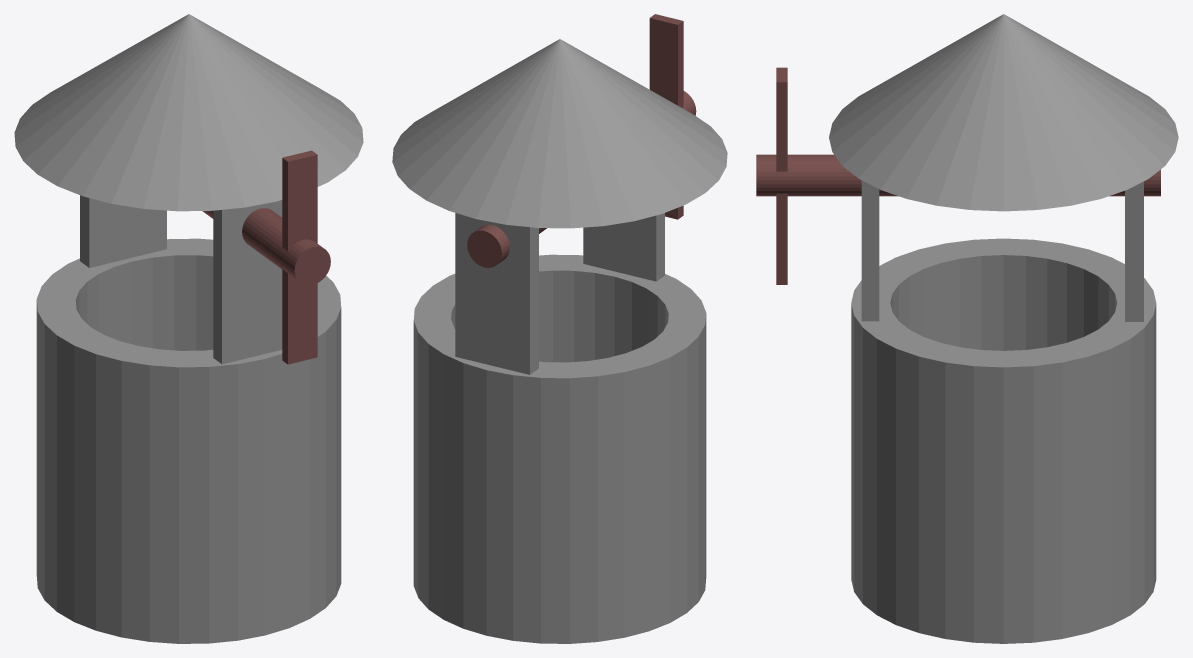
The model's file is vodnjak2.fbx.
3 views of the same model, side by side, from view 1: azimuth 30°, elevation 25°; view 2: azimuth 150°, elevation 25°; view 3: azimuth 270°, elevation 25° (orthographic). The views are drawn at different scales.
Visible parts, largest first — view 1: Cone, Cylinder.001; view 2: Cone, Cylinder.001; view 3: Cone, Cylinder.001.
Boxes of the visible parts, x1,y1,x2,y2 form: Cone: (14,14,363,643); Cylinder.001: (202,150,330,364); Cone: (392,39,727,643); Cylinder.001: (467,14,696,267); Cone: (829,14,1178,643); Cylinder.001: (756,67,1160,284).
Size of the model in its own units: 513 by 916 by 620.
